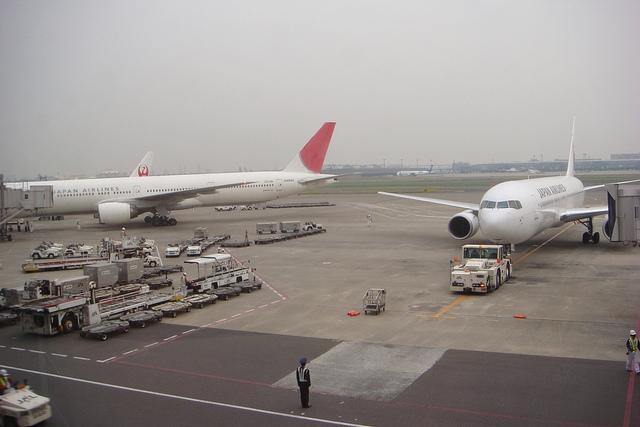truck: (16, 280, 177, 336), (1, 366, 56, 422), (449, 245, 513, 293), (184, 252, 240, 280), (301, 222, 323, 232)
